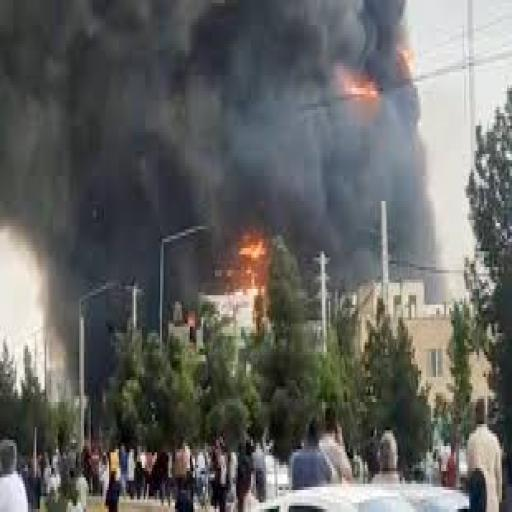fire: (334, 66, 379, 100), (238, 239, 267, 288), (346, 79, 379, 100), (240, 239, 265, 260), (399, 48, 414, 75), (247, 267, 255, 288), (187, 311, 196, 329)
smoke: (0, 0, 436, 339)
